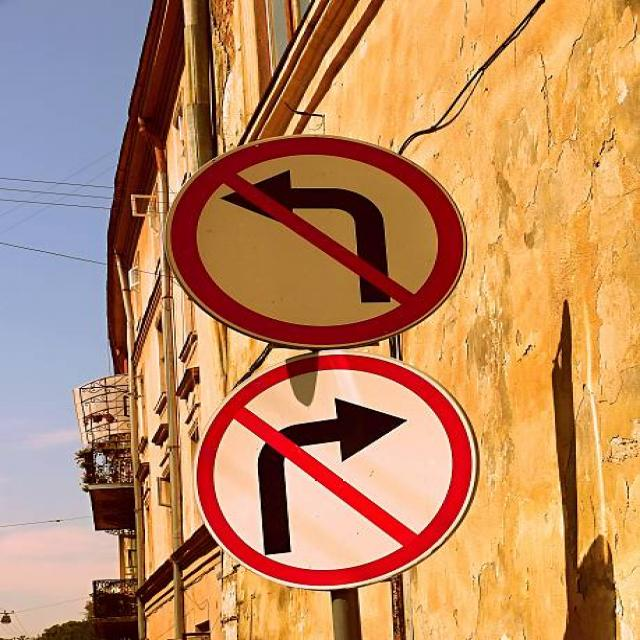do_not_turn_right: (180, 348, 492, 599)
